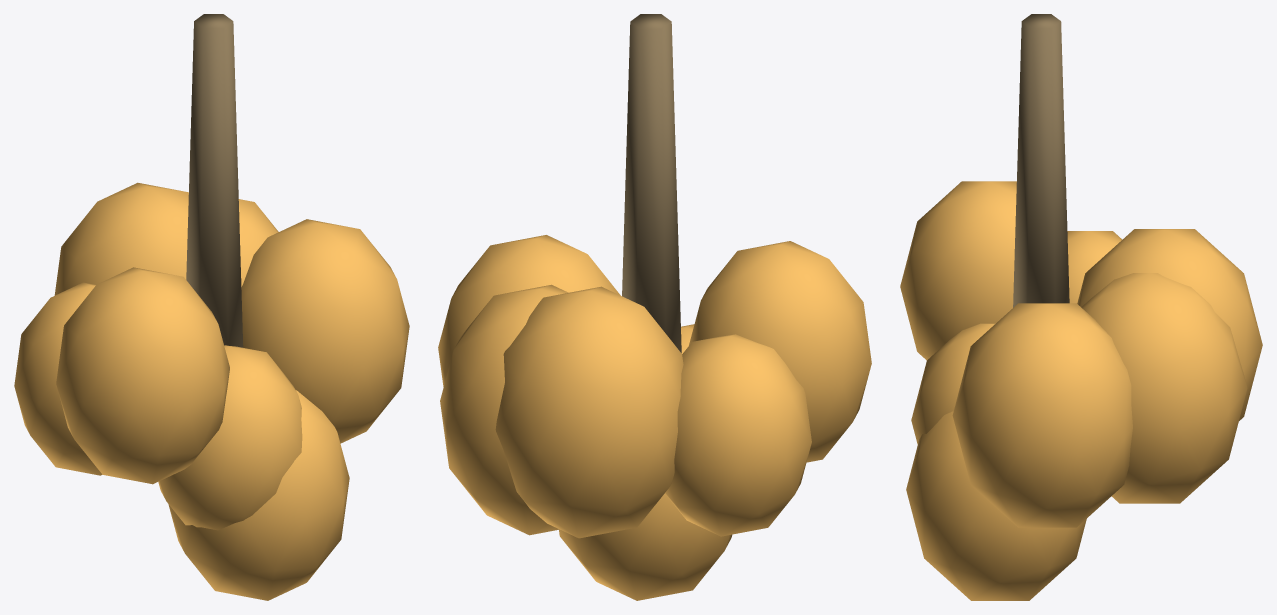
Rendered from PROP_FruitBunch.fbx.
3 views of the same model, side by side, from view 1: azimuth 30°, elevation 25°; view 2: azimuth 150°, elevation 25°; view 3: azimuth 270°, elevation 25° (orthographic). The views are drawn at different scales.
Parts seen in each view (by area): view 1: PROP_FruitBunch; view 2: PROP_FruitBunch; view 3: PROP_FruitBunch.
Part boxes in pixels (box(x1,y1,x2,y2)): PROP_FruitBunch: box(14, 14, 409, 600); PROP_FruitBunch: box(438, 14, 871, 600); PROP_FruitBunch: box(900, 14, 1262, 600).
Size of the model in its own units: 0.2493 by 0.3811 by 0.2206.
